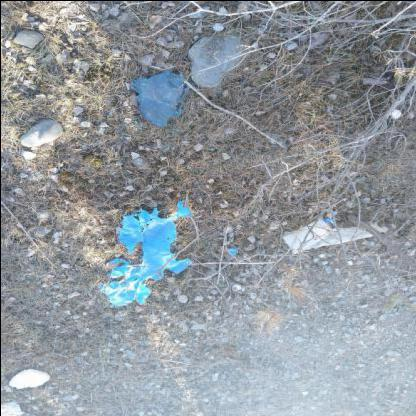Plastic bag - wrapper: (96, 200, 192, 305), (130, 68, 190, 126), (282, 218, 374, 254), (370, 222, 386, 231), (322, 218, 334, 228), (228, 247, 236, 255)
Styrofoam piece: (8, 368, 49, 388)
